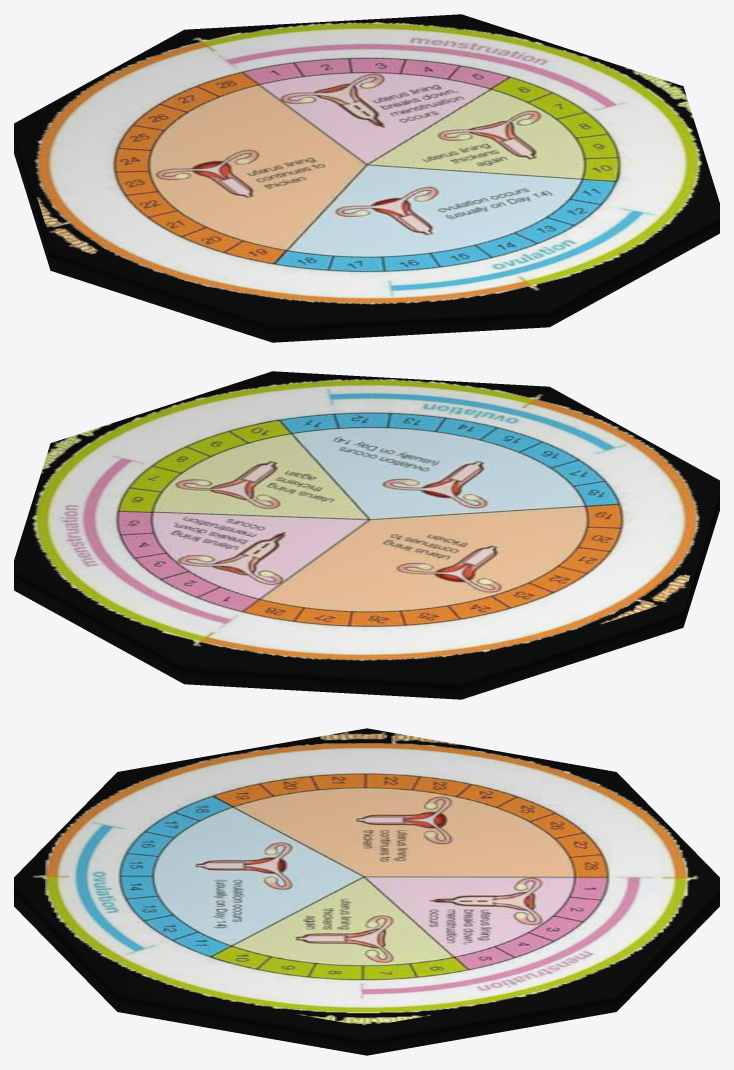
File: menstrual cycle.fbx
3 views of the same model, one above another, from view 1: azimuth 30°, elevation 25°; view 2: azimuth 150°, elevation 25°; view 3: azimuth 270°, elevation 25° (orthographic). The views are drawn at different scales.
Parts seen in each view (by area): view 1: menstrual_cycle; view 2: menstrual_cycle; view 3: menstrual_cycle.
Part boxes in pixels (x1,y1,x2,y2): menstrual_cycle: (14,14,719,342); menstrual_cycle: (14,371,719,699); menstrual_cycle: (14,728,719,1055).
Bounding box in the file's own units: 85.53 × 3.88 × 85.53.
1 material, 1 textured.
